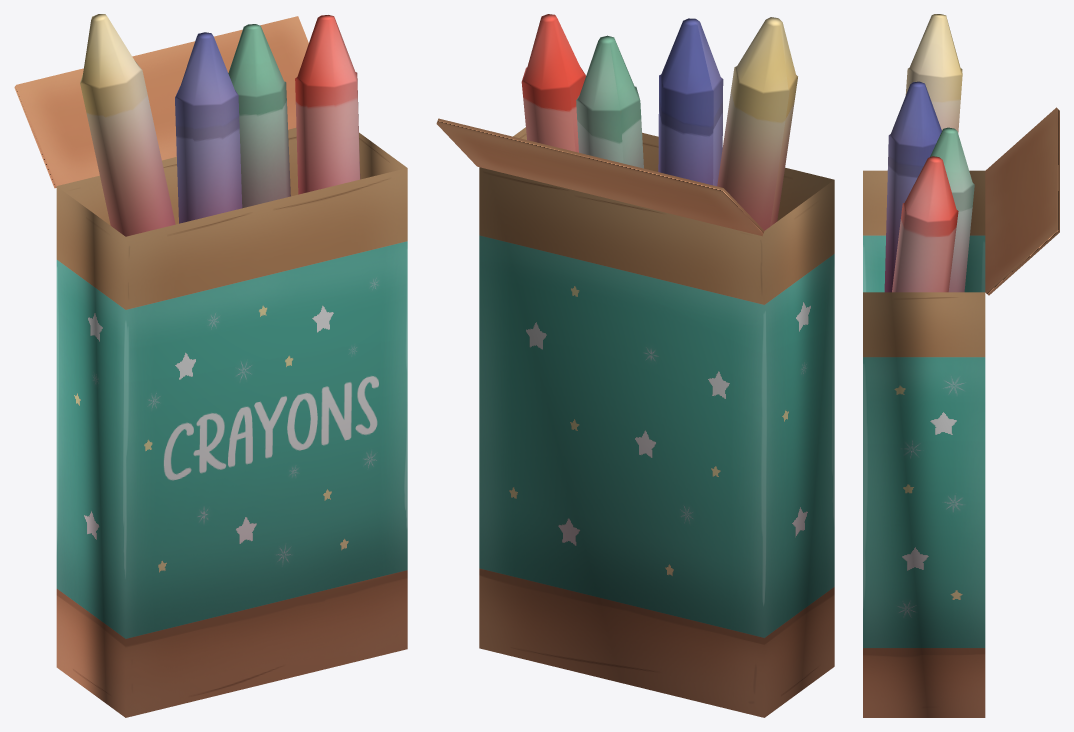
The model's file is crayonbox_open.fbx.
3 views of the same model, side by side, from view 1: azimuth 30°, elevation 25°; view 2: azimuth 150°, elevation 25°; view 3: azimuth 270°, elevation 25° (orthographic). The views are drawn at different scales.
Visible parts, largest first — view 1: pasted__pCube1, CRAYON01, CRAYON02, CRAYON03, CRAYON04; view 2: pasted__pCube1, CRAYON01, CRAYON02, CRAYON04, CRAYON03; view 3: pasted__pCube1, CRAYON03, CRAYON02, CRAYON01, CRAYON04.
Boxes of the visible parts, bbox=[...] form: pasted__pCube1: bbox=[14, 16, 407, 717]; CRAYON01: bbox=[80, 14, 175, 236]; CRAYON02: bbox=[175, 32, 242, 223]; CRAYON03: bbox=[295, 15, 360, 194]; CRAYON04: bbox=[228, 24, 290, 208]; pasted__pCube1: bbox=[436, 118, 834, 717]; CRAYON01: bbox=[717, 17, 797, 230]; CRAYON02: bbox=[658, 18, 723, 186]; CRAYON04: bbox=[576, 35, 643, 168]; CRAYON03: bbox=[521, 14, 585, 152]; pasted__pCube1: bbox=[863, 107, 1059, 717]; CRAYON03: bbox=[892, 156, 958, 292]; CRAYON02: bbox=[884, 81, 941, 292]; CRAYON01: bbox=[905, 14, 962, 132]; CRAYON04: bbox=[930, 127, 974, 292].
Bounding box in the file's own units: 1.04 × 2.34 × 0.7084.
